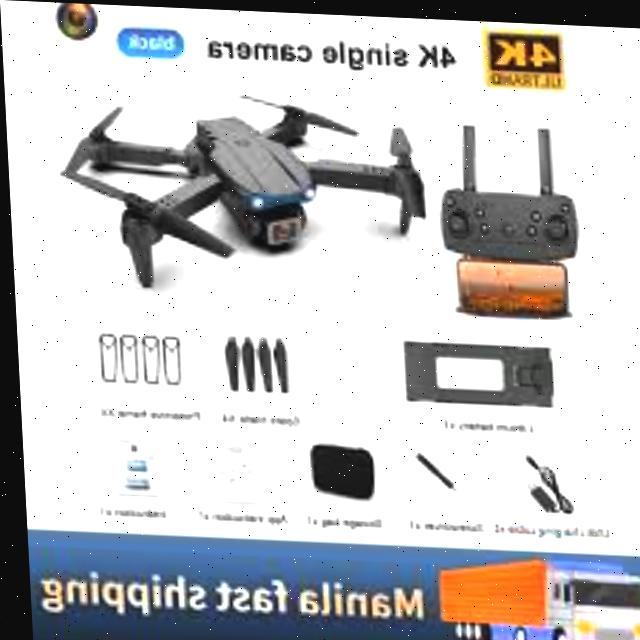drone: (42, 72, 439, 298)
